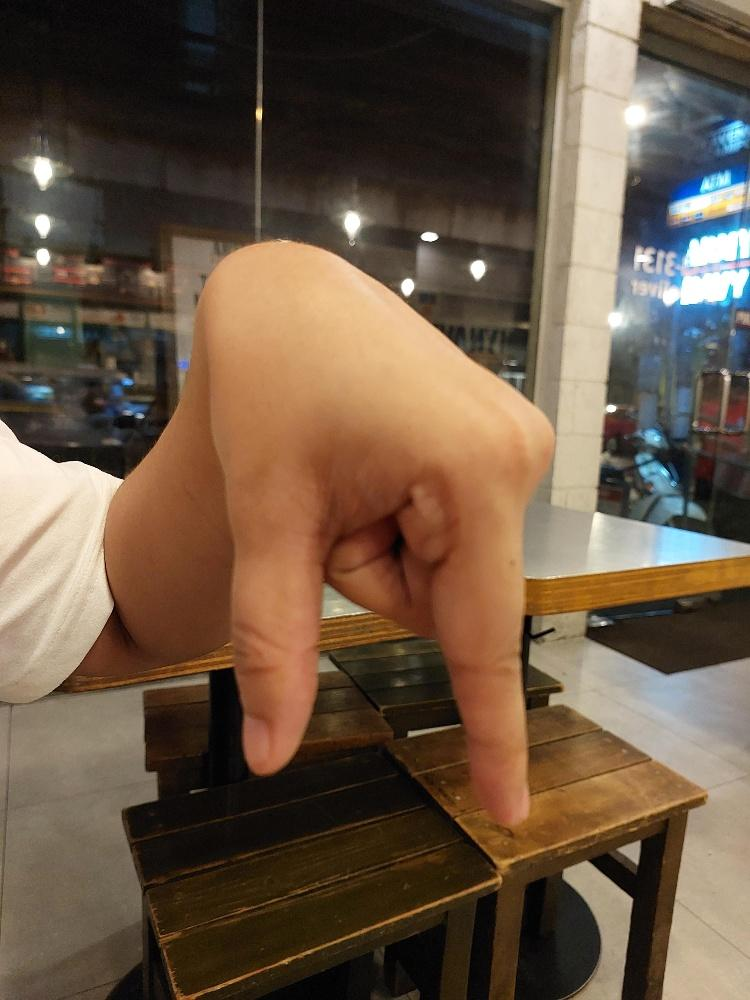q: (200, 235, 557, 828)
